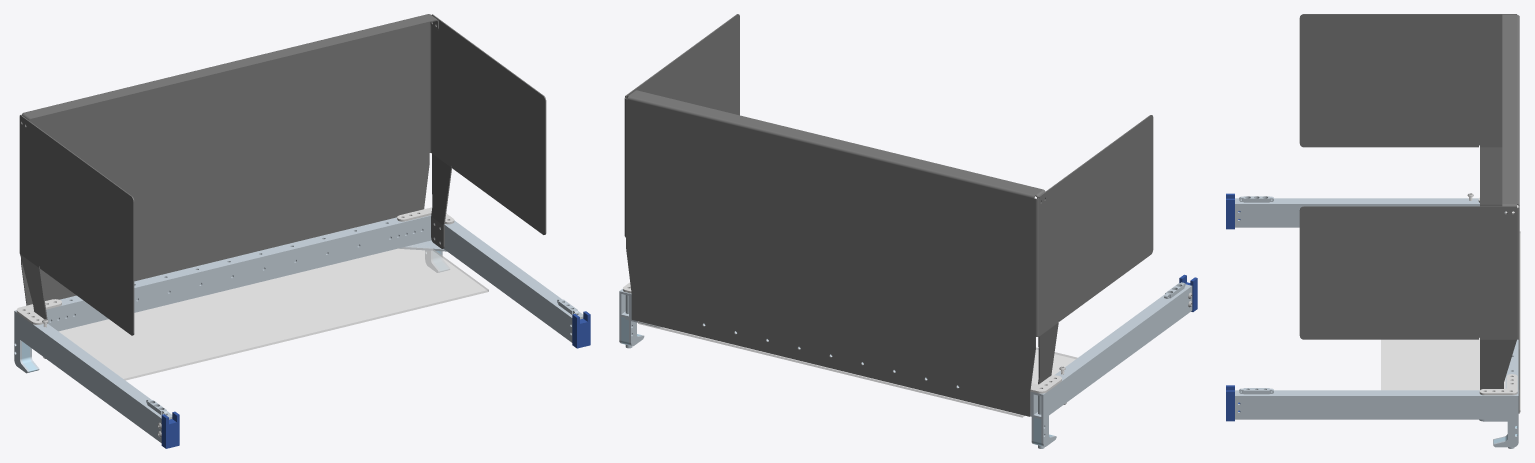
3 views of the same model, side by side, from view 1: azimuth 30°, elevation 25°; view 2: azimuth 150°, elevation 25°; view 3: azimuth 270°, elevation 25° (orthographic). The views are drawn at different scales.
Parts seen in each view (by area): view 1: Part 34, 1678-26a-0920, 1678-26a-0918, 1678-26a-0902 (×2), 1678-26a-0922 (×2), 1678-26B-0900 <1>; view 2: Part 34, 1678-26a-0902, 1678-26a-0920; view 3: Part 34, 1678-26a-0902 (×2), 1678-26a-0920, 1678-26a-0922 (×2), 1678-26B-0900 <1>, 1678-26a-0914, 1678-26a-0918.
Boxes of the visible parts, x1,y1,x2,y2 form: Part 34: (19,14,546,335); 1678-26a-0920: (58,244,488,380); 1678-26a-0918: (46,215,431,331); 1678-26a-0902 (×2): (14,220,583,442); 1678-26a-0922 (×2): (161,311,590,448); 1678-26B-0900 <1>: (16,207,454,324); Part 34: (624,14,1153,416); 1678-26a-0902: (1031,284,1192,419); 1678-26a-0920: (638,321,1077,417); Part 34: (1299,14,1519,413); 1678-26a-0902 (×2): (1235,198,1518,419); 1678-26a-0920: (1381,231,1520,412); 1678-26a-0922 (×2): (1226,193,1240,421); 1678-26B-0900 <1>: (1478,197,1518,395); 1678-26a-0914: (1493,419,1518,447); 1678-26a-0918: (1505,339,1518,390).
Size of what is drawn, in the model's own units: 0.6835 by 0.3887 by 0.4286.
